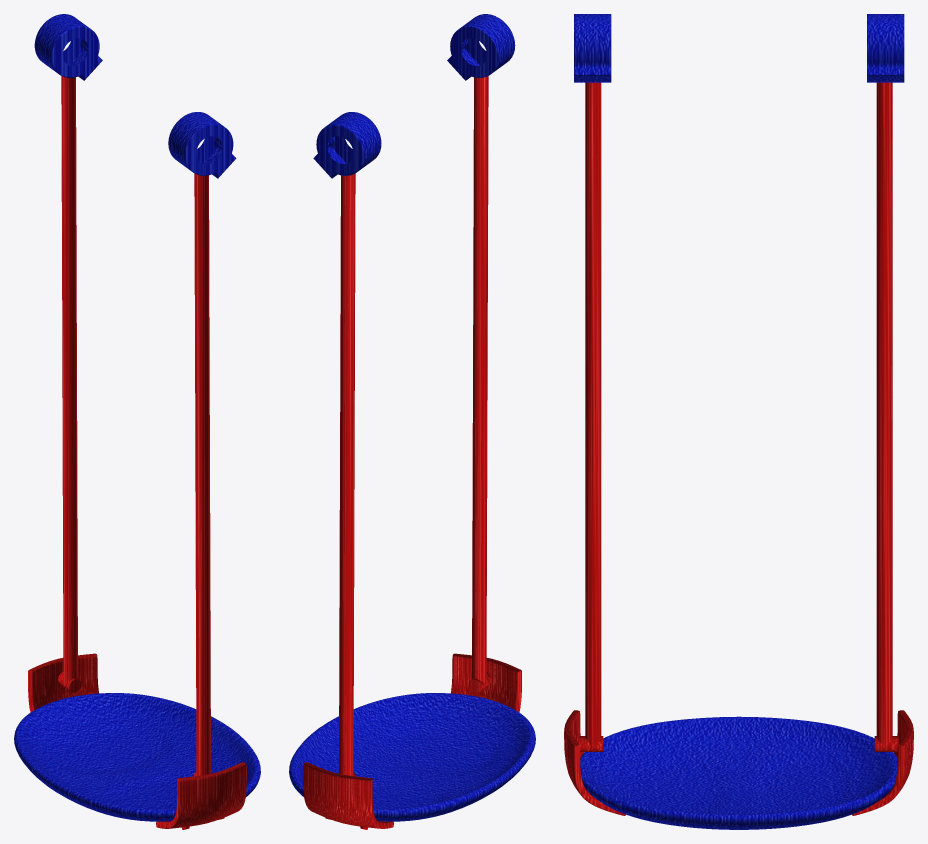
The model's file is asiento.obj.
3 views of the same model, side by side, from view 1: azimuth 30°, elevation 25°; view 2: azimuth 150°, elevation 25°; view 3: azimuth 270°, elevation 25° (orthographic). The views are drawn at different scales.
Parts seen in each view (by area): view 1: Object001, sit; view 2: Object001, sit; view 3: Object001, sit.
Part boxes in pixels (left/top/right/bottom): Object001: left=14, top=14, right=260, bottom=821; sit: left=28, top=76, right=246, bottom=828; Object001: left=289, top=14, right=535, bottom=821; sit: left=303, top=76, right=521, bottom=828; Object001: left=574, top=14, right=904, bottom=829; sit: left=564, top=82, right=913, bottom=815.
Size of the model in its own units: 11.31 by 40.48 by 16.4.
Materials: 3 (2 with a texture image).
